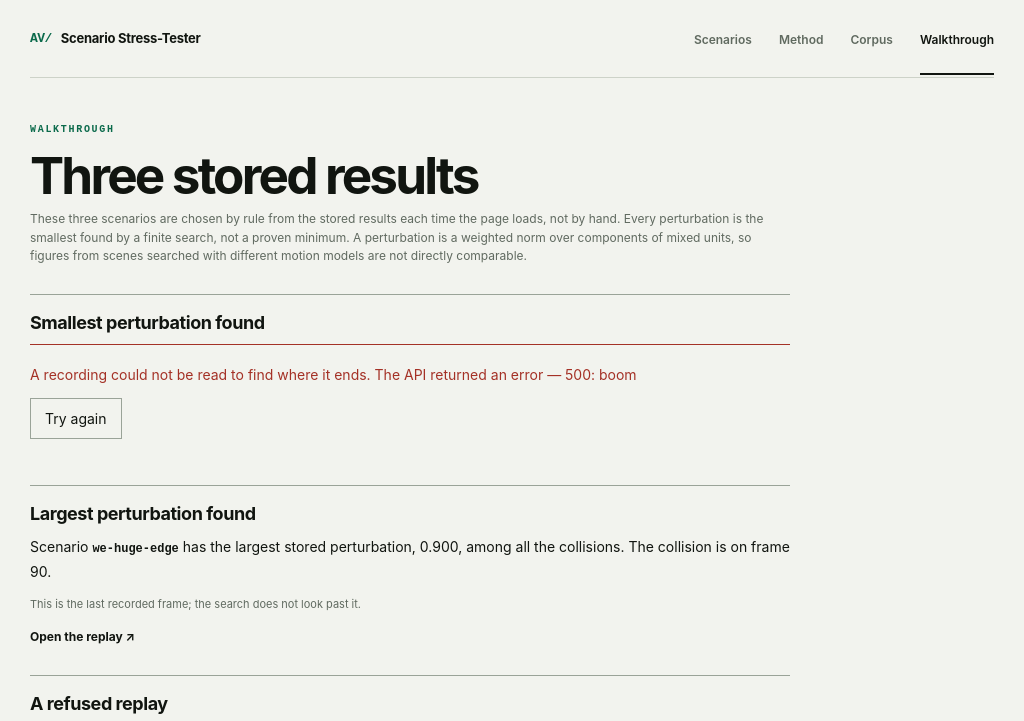
Test case: where the recording ends is read one candidate at a time, and cheaply › shows the error and chooses nothing when a recording cannot be read, and retries
Expected: the element "Smallest perturbation found" is shown, [30, 294, 790, 458]
Expected: the message shows "500: boom", [375, 366, 637, 383]
Click the button "Try again": (76, 419) [30, 398, 122, 439]
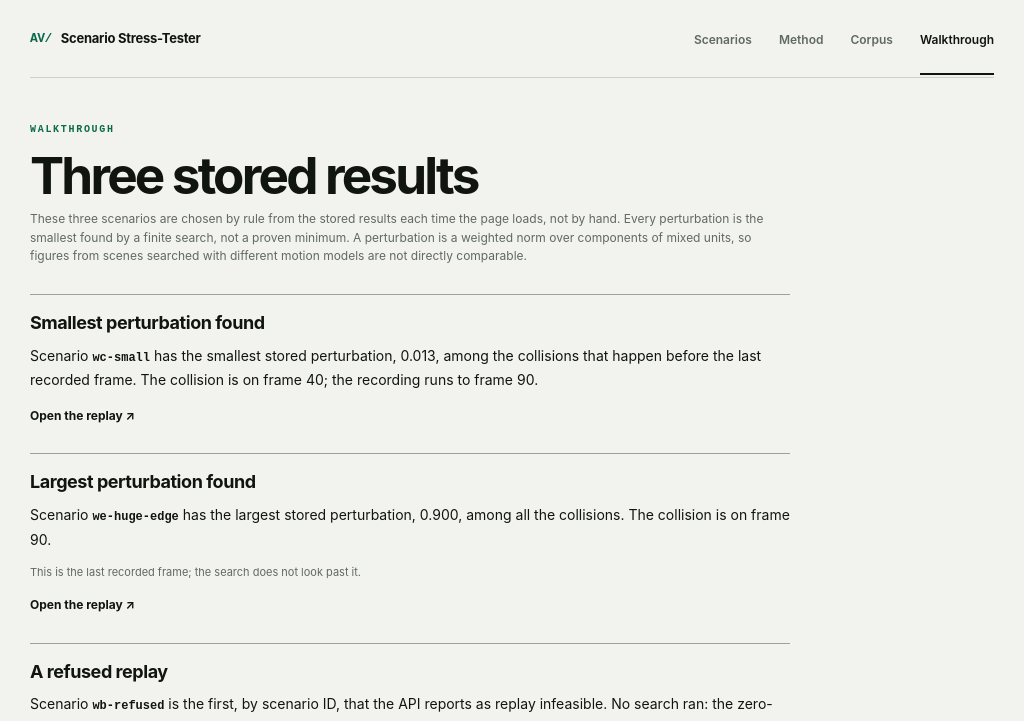
Now the text "wc-small" is shown, box [92, 351, 150, 365]
